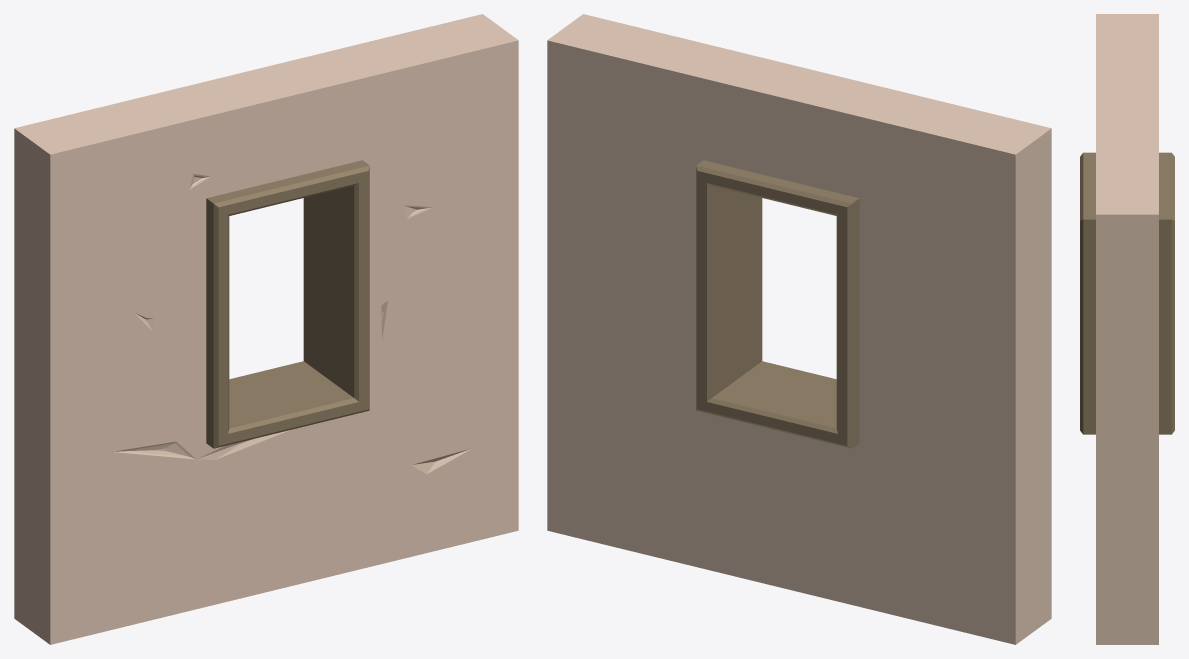
Rendered from greek_wall_2_window.fbx.
3 views of the same model, side by side, from view 1: azimuth 30°, elevation 25°; view 2: azimuth 150°, elevation 25°; view 3: azimuth 270°, elevation 25° (orthographic). The views are drawn at different scales.
Visible parts, largest first — view 1: Cube.077; view 2: Cube.077; view 3: Cube.077.
Boxes of the visible parts, left/top/right/bottom form: Cube.077: left=14, top=14, right=518, bottom=644; Cube.077: left=547, top=14, right=1051, bottom=644; Cube.077: left=1080, top=14, right=1174, bottom=644.
Bounding box in the file's own units: 300 × 300 × 60.
